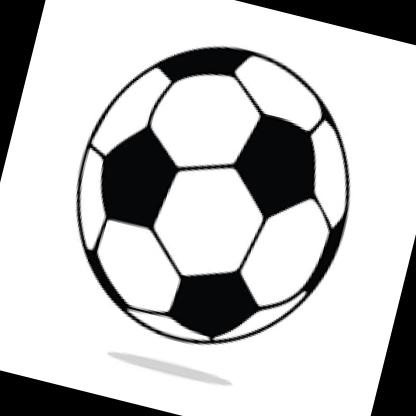ball: (44, 17, 380, 374)
